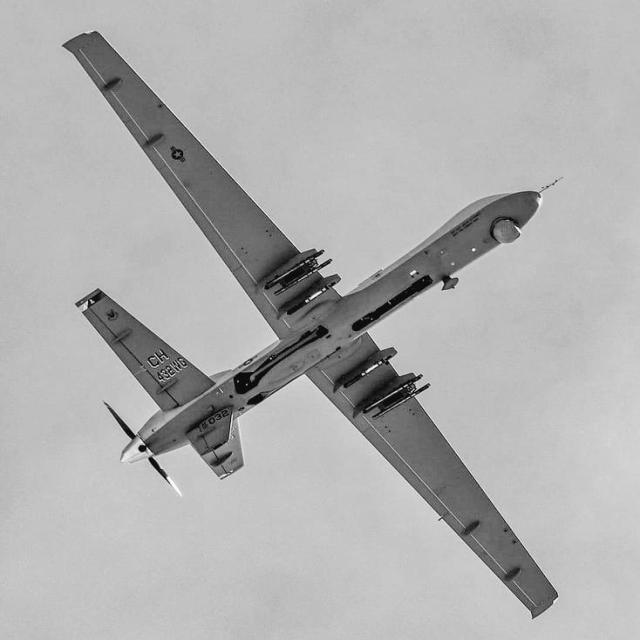iha: (5, 20, 557, 617)
